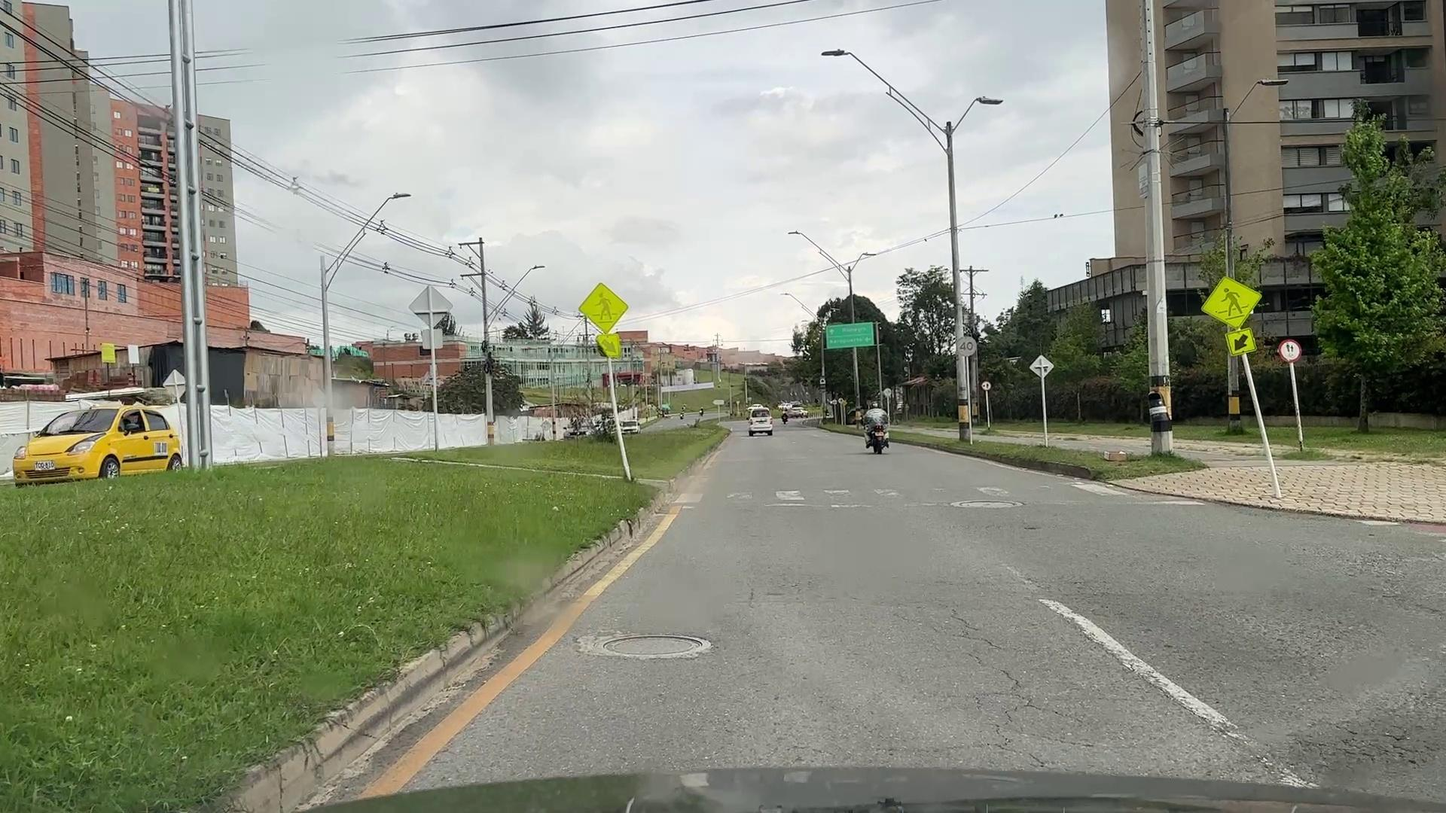bache: (1024, 526, 1042, 530)
registro: (604, 636, 702, 655), (959, 501, 1016, 506)
